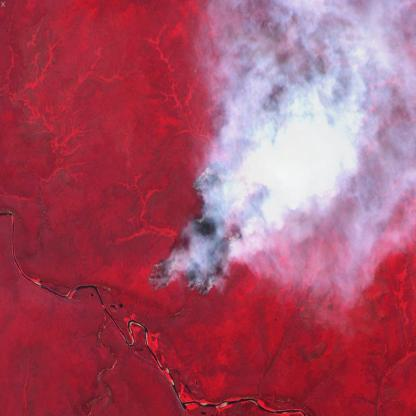fire: (181, 152, 256, 299), (145, 252, 177, 296)
